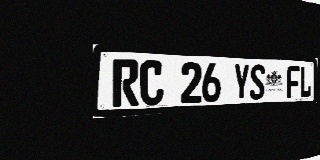2: (181, 62, 202, 104)
6: (202, 62, 221, 103)
C: (140, 60, 164, 106)
F: (287, 66, 300, 98)
L: (300, 66, 312, 97)
R: (113, 59, 139, 107)
S: (250, 64, 265, 100)
Y: (233, 64, 250, 101)
